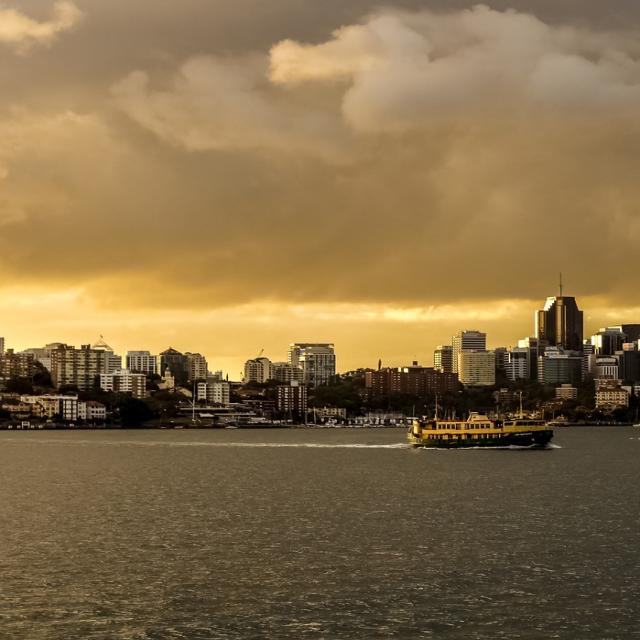ship: (411, 411, 558, 451)
